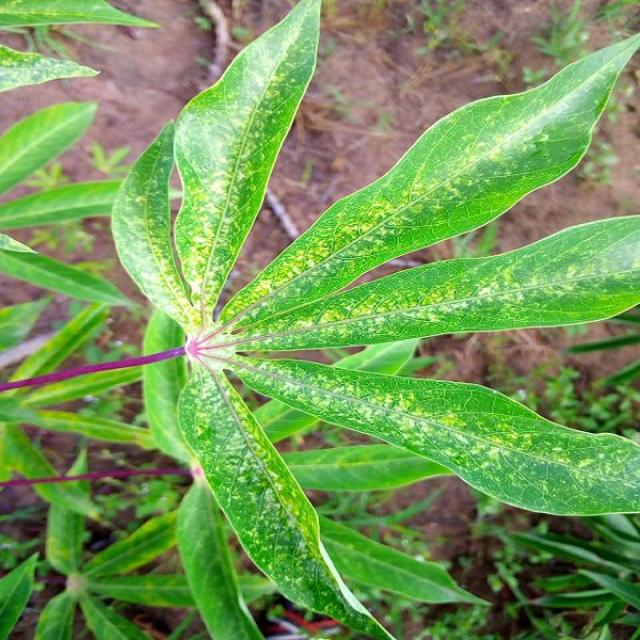cassava leaf: (1, 1, 638, 637), (214, 30, 638, 342), (171, 0, 322, 321)
